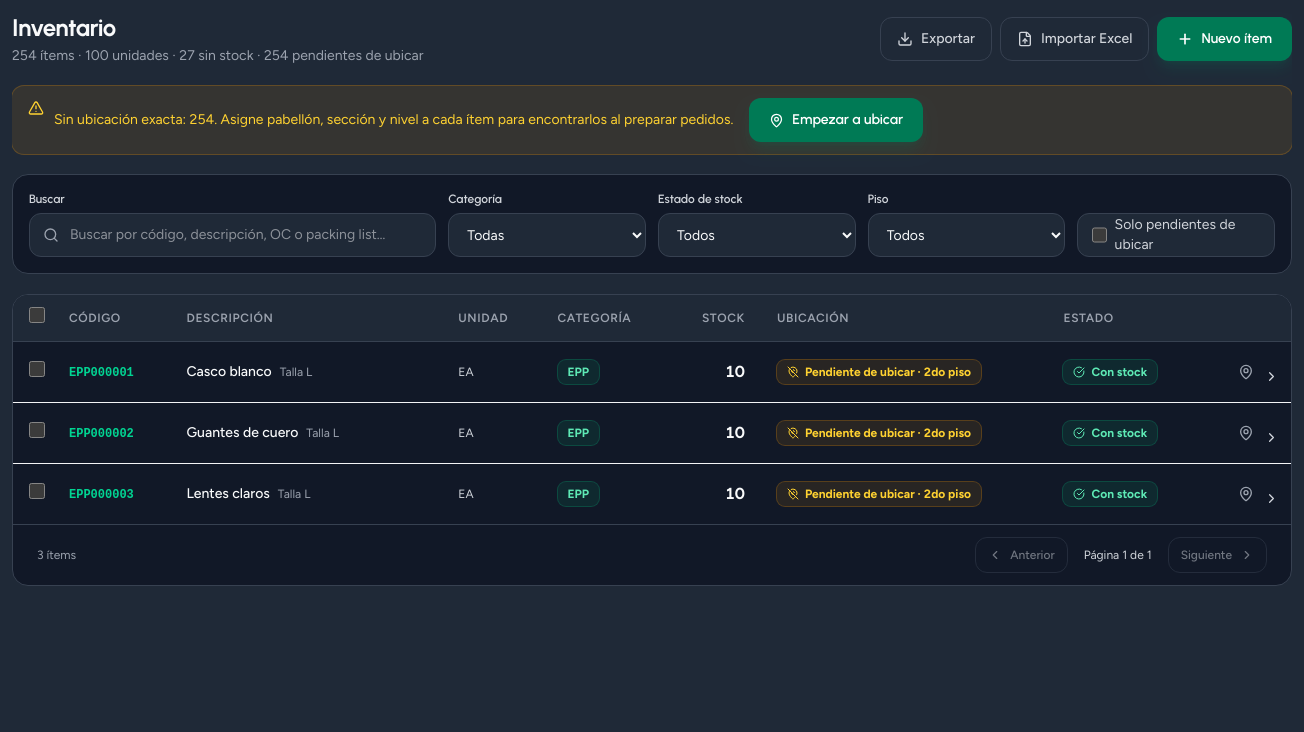
Test: InventarioPage — selección masiva › «Seleccionar todos» marca la página, anuncia la cantidad y se puede deshacer
Expected: the link "EPP000001" is shown, left=69, top=366, right=134, bottom=380
Click the checkbox named "seleccionar todos los ítems de esta página" at (37, 315), box left=29, top=307, right=45, bottom=323
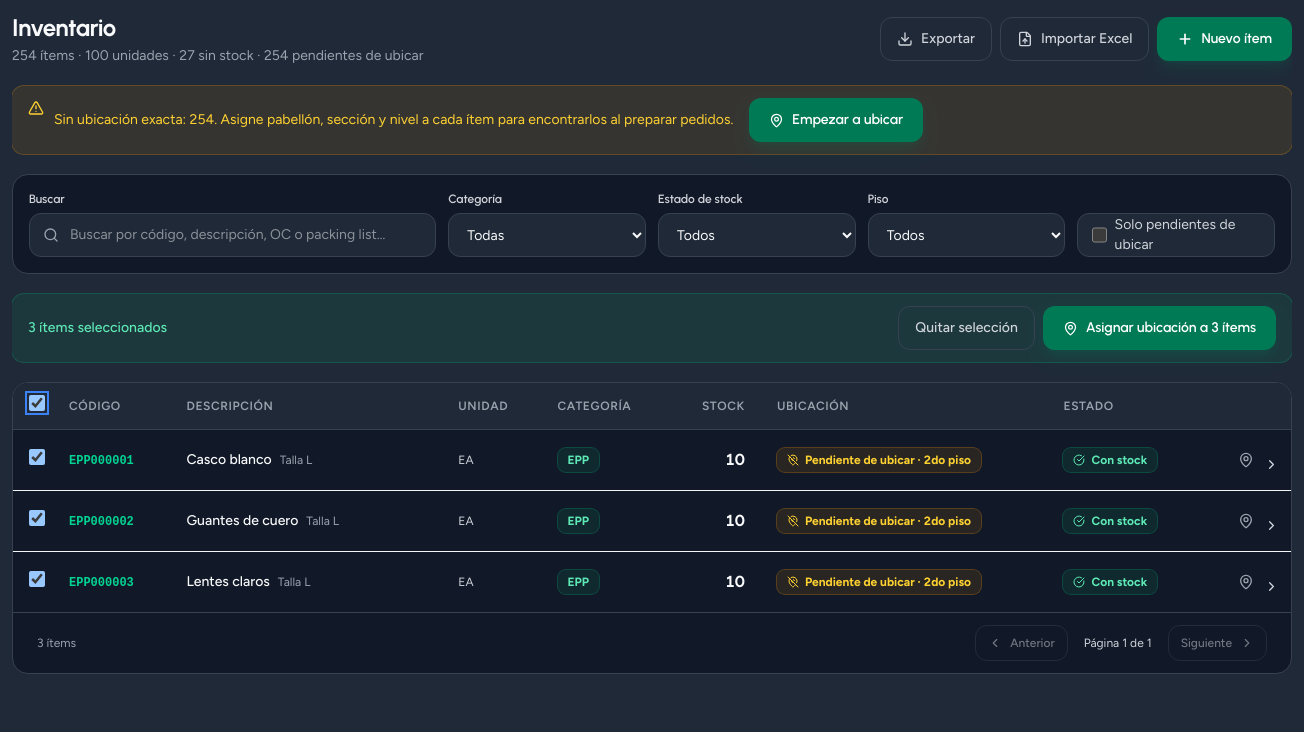
Expected: the text "3 ítems seleccionados" is shown, left=28, top=318, right=167, bottom=338
Expected: the checkbox named "Seleccionar EPP000002" is checked, left=29, top=510, right=45, bottom=526
Click the checkbox named "seleccionar todos los ítems de esta página" at (37, 403), box left=29, top=395, right=45, bottom=411
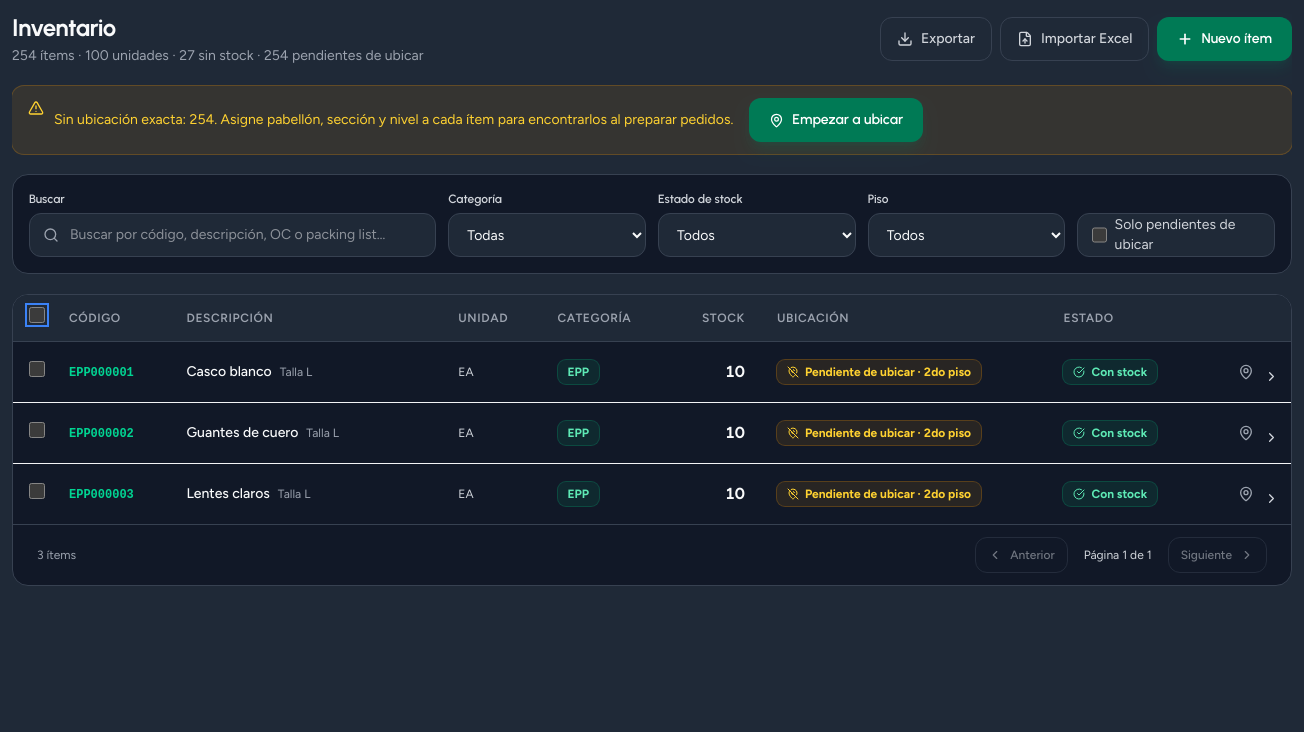
Expected: the text "ítems seleccionados" is gone
Expected: the checkbox named "Seleccionar EPP000002" is not checked, left=29, top=422, right=45, bottom=438
